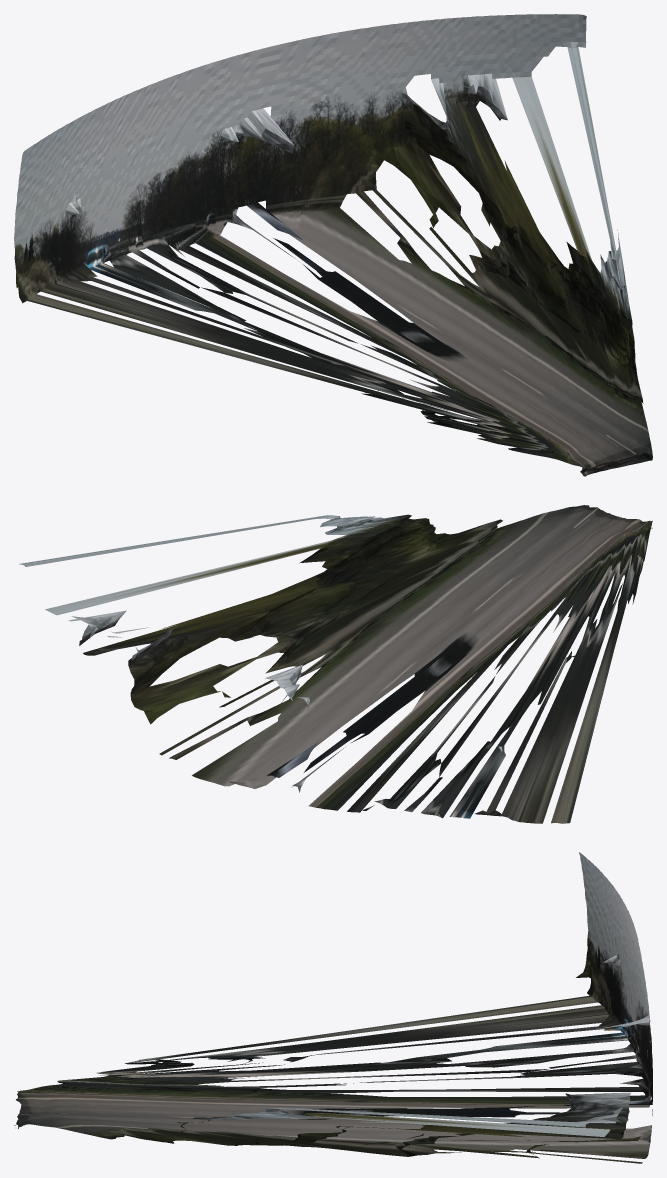
3 views of the same model, one above another, from view 1: azimuth 30°, elevation 25°; view 2: azimuth 150°, elevation 25°; view 3: azimuth 270°, elevation 25° (orthographic). The views are drawn at different scales.
Parts seen in each view (by area): view 1: defaultobject; view 2: defaultobject; view 3: defaultobject.
Boxes of the visible parts, box(x1,y1,x2,y2) form: defaultobject: box(14, 14, 652, 476); defaultobject: box(19, 505, 652, 823); defaultobject: box(14, 852, 652, 1163).
Bounding box in the file's own units: 40.97 × 12.47 × 44.4.
1 material, 1 textured.
